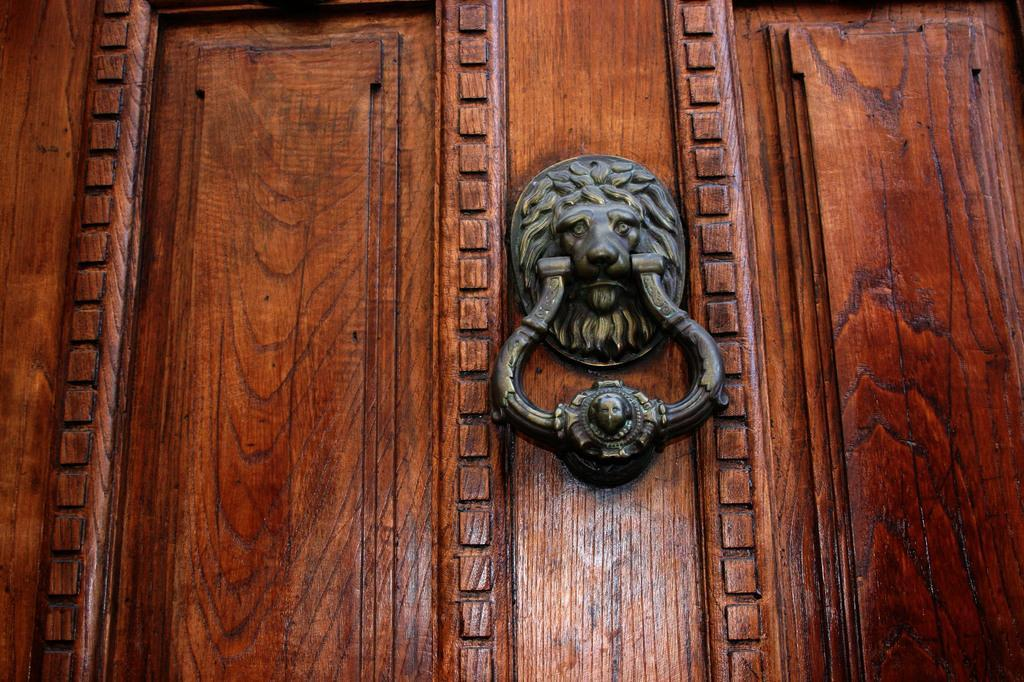handle: (474, 153, 731, 494)
